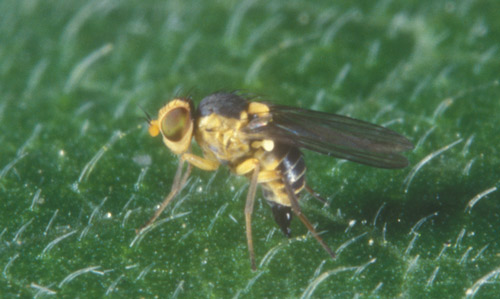Trifoli: (133, 83, 418, 258)
